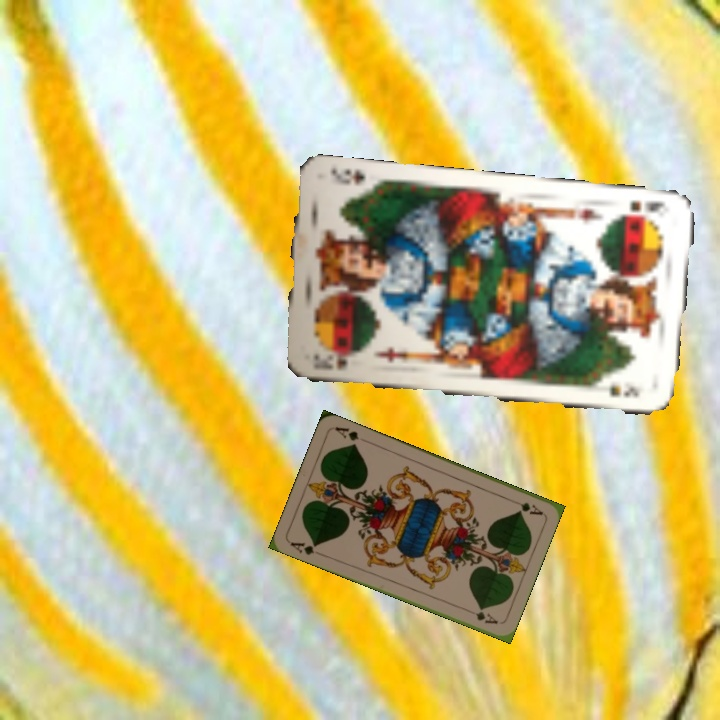GA: (506, 495, 545, 517), (286, 538, 325, 558)
SK: (614, 195, 667, 221), (309, 349, 359, 372)
